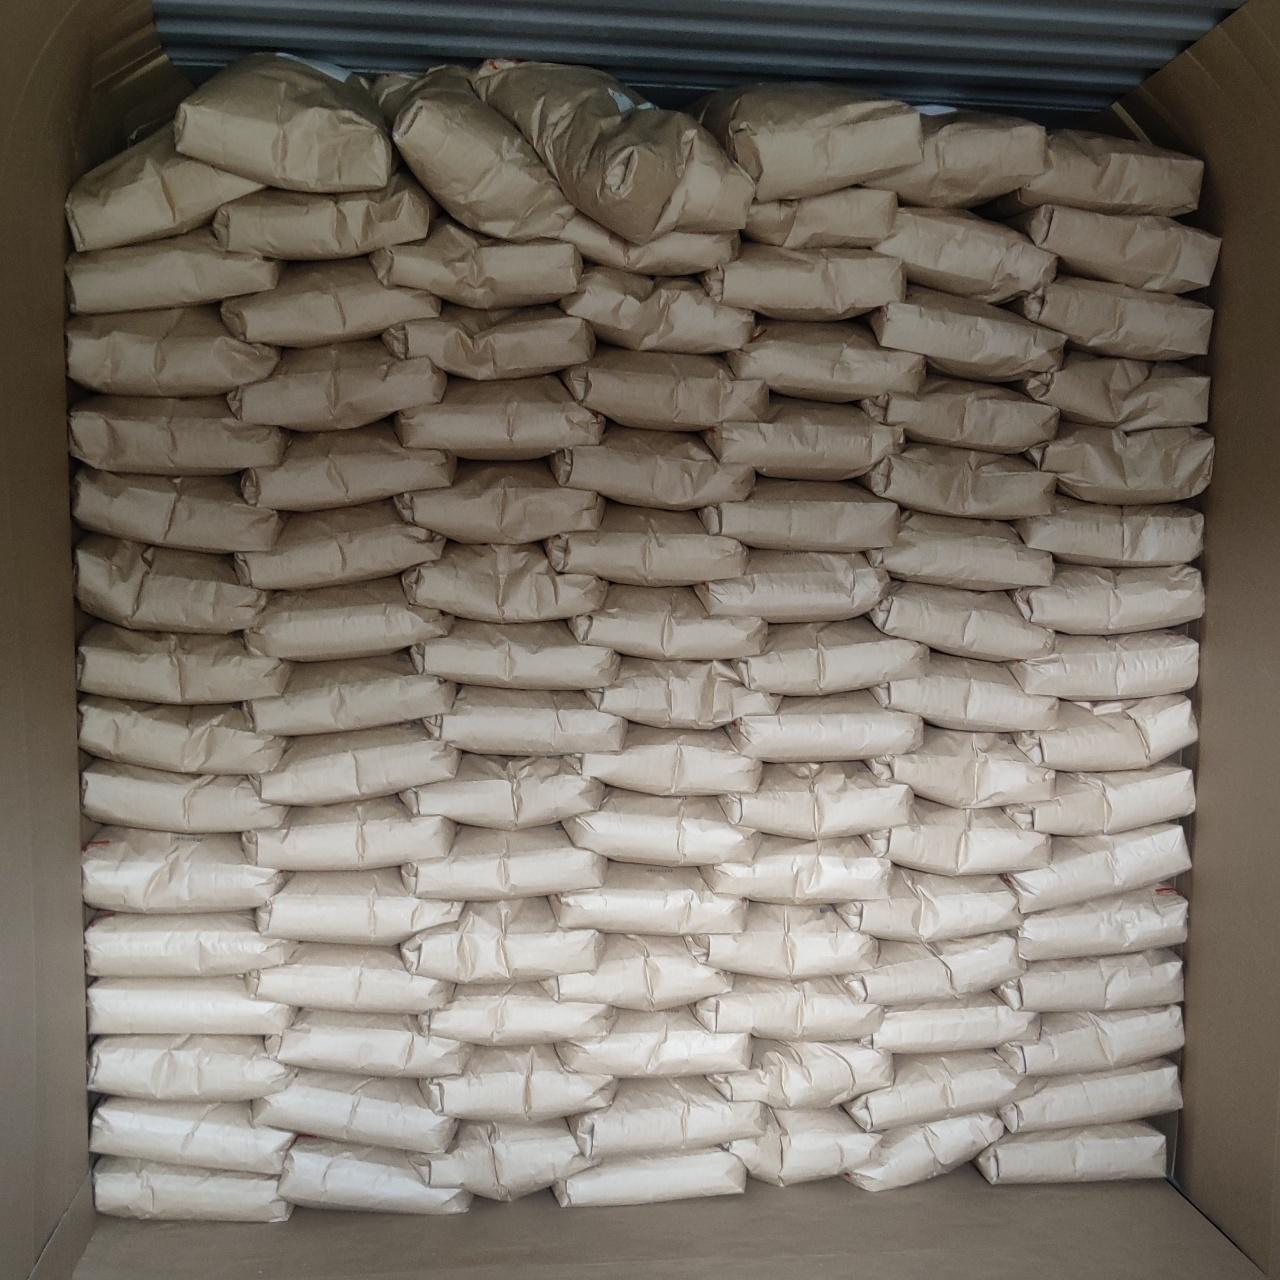sack: (470, 60, 750, 240), (372, 66, 574, 241), (176, 54, 394, 190), (696, 82, 918, 198), (68, 122, 263, 246), (215, 168, 436, 258), (229, 338, 444, 430), (372, 218, 580, 308), (241, 420, 454, 508), (222, 258, 438, 343), (1002, 206, 1218, 292), (76, 535, 268, 629), (236, 502, 444, 588), (870, 286, 1062, 380), (68, 226, 282, 309), (68, 306, 278, 390), (1000, 130, 1201, 216), (561, 346, 765, 430), (864, 113, 1046, 206), (246, 652, 454, 734), (74, 467, 278, 550), (396, 459, 602, 542), (79, 622, 290, 702), (552, 424, 753, 508), (874, 207, 1054, 300), (84, 826, 284, 910), (1010, 274, 1210, 358), (248, 578, 450, 660), (396, 376, 604, 456), (402, 898, 598, 982), (256, 722, 456, 804), (70, 394, 286, 470), (704, 396, 903, 478), (561, 266, 754, 350), (254, 1070, 454, 1150), (382, 304, 594, 377), (1006, 824, 1189, 910), (546, 504, 744, 583), (402, 544, 606, 620), (80, 696, 284, 772), (570, 1078, 764, 1158), (702, 241, 904, 318), (728, 320, 922, 399), (91, 1098, 292, 1175), (244, 796, 454, 869), (858, 374, 1056, 450), (258, 869, 459, 942), (1026, 422, 1212, 502), (731, 618, 926, 694), (402, 754, 602, 828), (1016, 350, 1206, 428), (280, 1138, 470, 1214), (404, 826, 606, 898), (722, 762, 910, 838), (860, 444, 1054, 518), (872, 652, 1054, 730), (870, 728, 1051, 806), (870, 583, 1054, 660), (82, 760, 284, 830), (700, 478, 898, 550), (1006, 760, 1194, 835), (846, 1051, 1024, 1130), (422, 1046, 614, 1118), (869, 512, 1051, 588), (564, 790, 758, 862), (248, 944, 452, 1012), (866, 798, 1048, 874), (552, 862, 742, 934), (570, 586, 765, 656), (1014, 493, 1201, 566), (836, 866, 1020, 940), (696, 550, 888, 620), (411, 620, 614, 686), (424, 686, 622, 753), (268, 1010, 470, 1076), (422, 1121, 592, 1198), (588, 656, 778, 726), (728, 692, 922, 758), (544, 934, 726, 1006), (86, 912, 294, 974), (1002, 1060, 1180, 1132), (690, 904, 874, 974), (90, 1036, 294, 1099), (558, 1008, 748, 1076), (840, 934, 1022, 1005), (1008, 629, 1198, 696), (576, 724, 758, 794), (1014, 696, 1196, 765), (702, 836, 890, 903), (998, 1006, 1182, 1074), (1012, 564, 1201, 629), (96, 1158, 292, 1220), (1016, 886, 1186, 958), (710, 1040, 892, 1107), (846, 1114, 1002, 1190), (90, 976, 294, 1034), (696, 974, 878, 1039), (425, 983, 614, 1044), (978, 1122, 1166, 1182), (726, 1108, 878, 1182), (998, 949, 1182, 1010), (556, 1148, 745, 1206), (559, 212, 737, 274), (866, 992, 1036, 1051), (744, 188, 894, 246)
